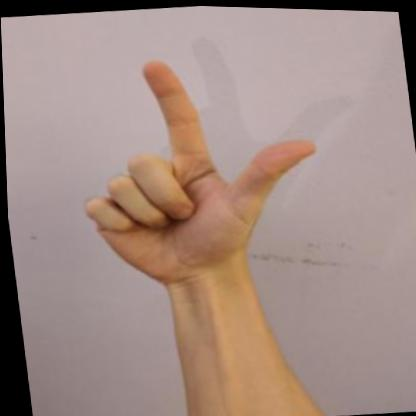L: (51, 34, 343, 304)
